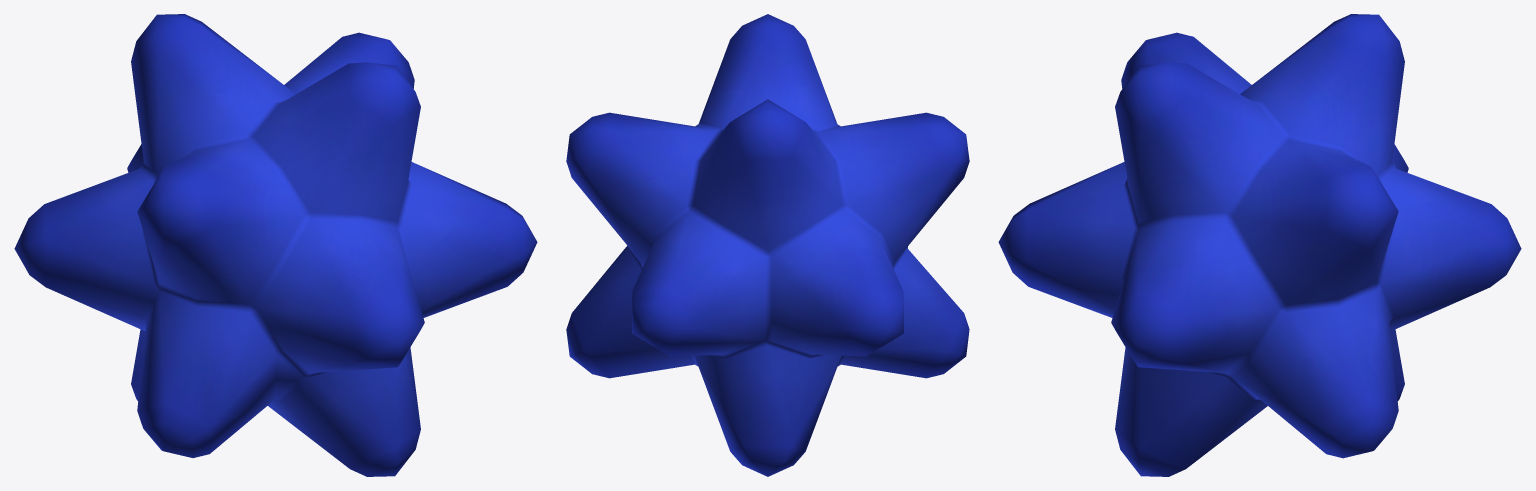
Rendered from gemini-fragment.glb.
3 renders of one model, left to right at view 1: azimuth 30°, elevation 25°; view 2: azimuth 150°, elevation 25°; view 3: azimuth 270°, elevation 25°, orthographic. The views are drawn at different scales.
Size of the model in its own units: 3.1 by 3.05 by 3.52.
1 material, 1 textured.
